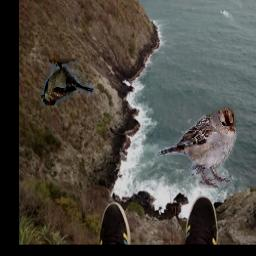Sparrow: (154, 106, 239, 188), (40, 58, 93, 105)
